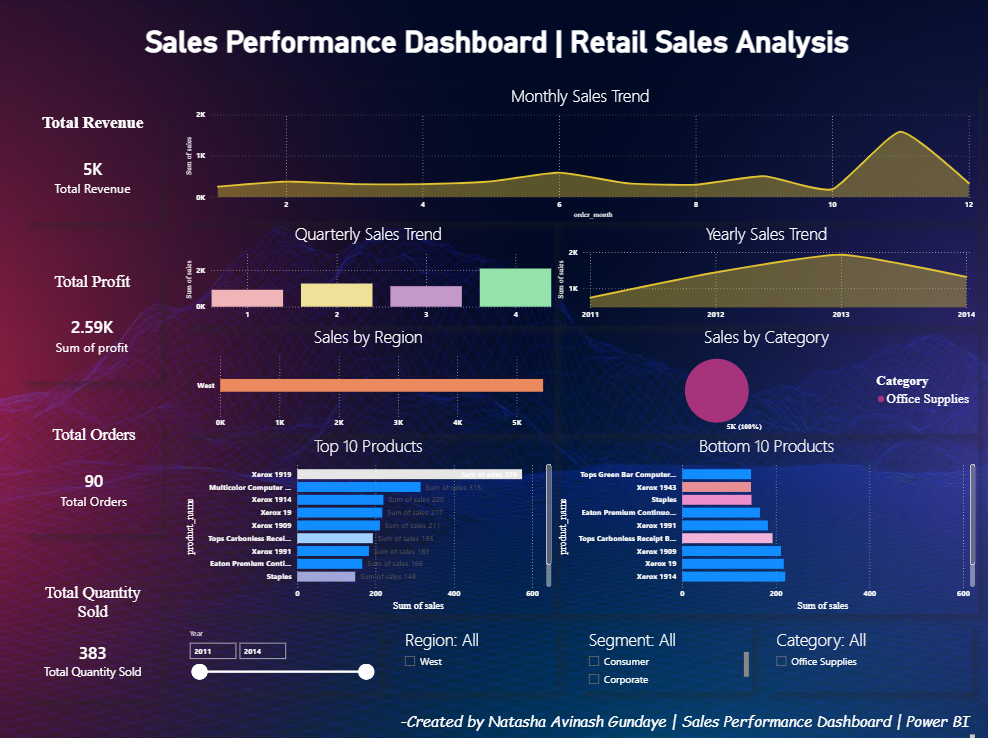

Layout of this report page (visuals, bound fields, positions):
{"tool":"powerbi","page":{"name":"Page 1","canvas":[1600,1200],"ordinal":0},"visuals":[{"type":"lineChart","title":"Monthly Sales Trend","fields":{"Category":["superstore_sample_100rows.order_month"],"Y":["Sum(superstore_sample_100rows.sales)"]},"box":[297.6,138.7,1280.8,221.2],"z":0},{"type":"clusteredColumnChart","title":"Quarterly Sales Trend","fields":{"Category":["superstore_sample_100rows.order_quarter"],"Y":["Sum(superstore_sample_100rows.sales)"]},"box":[297.6,359.9,599.2,166.9],"z":1000},{"type":"lineChart","title":"Yearly Sales Trend","fields":{"Category":["superstore_sample_100rows.order_year"],"Y":["Sum(superstore_sample_100rows.sales)"]},"box":[896.8,359.9,681.6,166.9],"z":2000},{"type":"clusteredBarChart","title":"Top 10 Products","fields":{"Y":["Sum(superstore_sample_100rows.sales)"],"Category":["superstore_sample_100rows.product_name"]},"box":[297.6,701.7,599.2,289.5],"z":3000},{"type":"clusteredBarChart","title":"Bottom 10 Products","fields":{"Y":["Sum(superstore_sample_100rows.sales)"],"Category":["superstore_sample_100rows.product_name"]},"box":[896.8,701.7,681.6,289.5],"z":4000},{"type":"clusteredBarChart","title":"Sales by Region","fields":{"Category":["superstore_sample_100rows.region"],"Y":["Sum(superstore_sample_100rows.sales)"]},"box":[297.6,526.8,599.2,174.9],"z":5000},{"type":"pieChart","title":"Sales by Category","fields":{"Category":["superstore_sample_100rows.category"],"Y":["Sum(superstore_sample_100rows.sales)"]},"box":[896.8,526.8,681.6,174.9],"z":6000},{"type":"cardVisual","title":"Total Profit","fields":{"Data":["Sum(superstore_sample_100rows.profit)"]},"box":[42.2,440.4,221.2,174.9],"z":8000},{"type":"cardVisual","title":"Total Orders","fields":{"Data":["superstore_sample_100rows.Total Orders"]},"box":[46.2,687.7,219.2,174.9],"z":9000},{"type":"cardVisual","title":"Total Revenue","fields":{"Data":["superstore_sample_100rows.Total Revenue"]},"box":[44.2,185,219.2,174.9],"z":10000},{"type":"cardVisual","title":"Total Quantity Sold","fields":{"Data":["superstore_sample_100rows.Growth Rate"]},"box":[44.2,941,219.2,189],"z":11000},{"type":"slicer","fields":{"Values":["superstore_sample_100rows.order_year"]},"box":[297.6,1009.4,317.7,106.6],"z":13000},{"type":"slicer","fields":{"Values":["superstore_sample_100rows.region"]},"box":[643.4,1009.4,257.4,106.6],"z":14000},{"type":"slicer","fields":{"Values":["superstore_sample_100rows.segment"]},"box":[939,1009.4,275.5,106.6],"z":15000},{"type":"slicer","fields":{"Values":["superstore_sample_100rows.category"]},"box":[1240.6,1009.4,327.7,106.6],"z":16000},{"type":"textbox","title":"Sales Performance Dashboard | Retail Sales Analysis","box":[100.5,42.2,1407.5,96.5],"z":17000},{"type":"textbox","title":"-Created by Natasha Avinash Gundaye | Sales Performance Dashboard | Power BI","box":[643.4,1146.1,935,54.3],"z":17001}]}

Visuals, with their boxes in screenshot pixels (x1, y1, x2, y2), scaled from the page's 1600x1200 canvas onto the 988x738 screenshot:
"Monthly Sales Trend" lineChart: bbox(184, 85, 975, 221)
"Quarterly Sales Trend" clusteredColumnChart: bbox(184, 221, 554, 324)
"Yearly Sales Trend" lineChart: bbox(554, 221, 975, 324)
"Top 10 Products" clusteredBarChart: bbox(184, 432, 554, 610)
"Bottom 10 Products" clusteredBarChart: bbox(554, 432, 975, 610)
"Sales by Region" clusteredBarChart: bbox(184, 324, 554, 432)
"Sales by Category" pieChart: bbox(554, 324, 975, 432)
"Total Profit" cardVisual: bbox(26, 271, 163, 378)
"Total Orders" cardVisual: bbox(29, 423, 164, 530)
"Total Revenue" cardVisual: bbox(27, 114, 163, 221)
"Total Quantity Sold" cardVisual: bbox(27, 579, 163, 695)
slicer - superstore_sample_100rows.order_year: bbox(184, 621, 380, 686)
slicer - superstore_sample_100rows.region: bbox(397, 621, 556, 686)
slicer - superstore_sample_100rows.segment: bbox(580, 621, 750, 686)
slicer - superstore_sample_100rows.category: bbox(766, 621, 968, 686)
"Sales Performance Dashboard | Retail Sales Analysis" textbox: bbox(62, 26, 931, 85)
"-Created by Natasha Avinash Gundaye | Sales Performance Dashboard | Power BI" textbox: bbox(397, 705, 975, 737)
